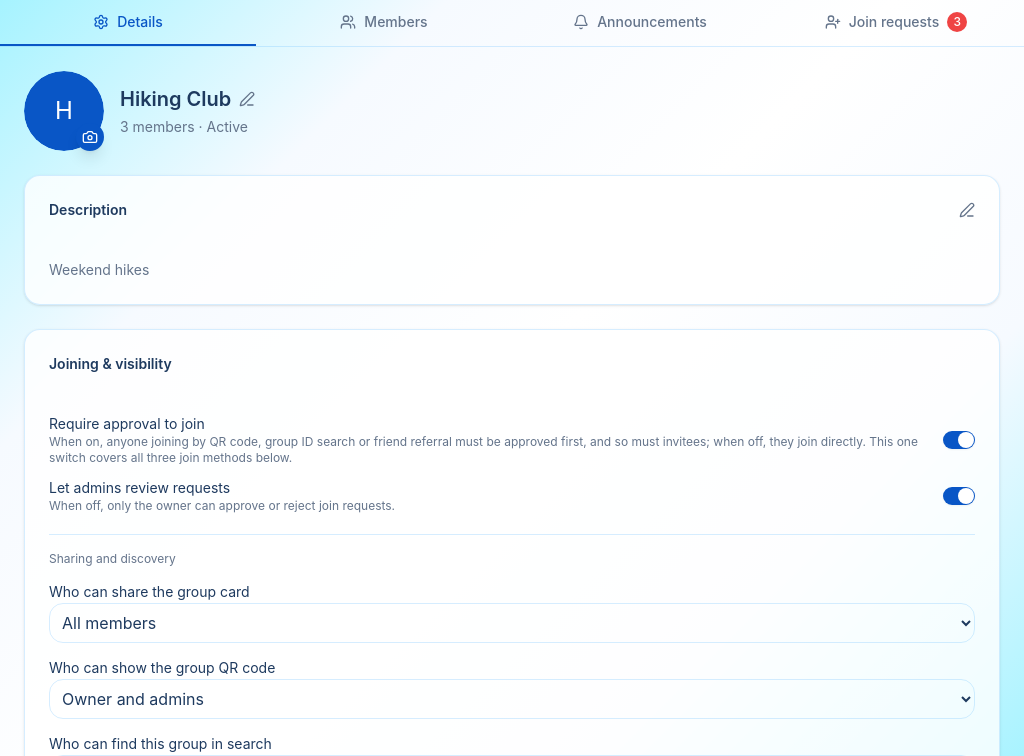
GroupManagement 禁言弹窗标题 › 成员没有昵称时标题落到用户 ID，而不是只剩「Mute 」（原来只读 user_nickname）
Check: the text "Joining & visibility" is shown, box [49, 355, 172, 372]
Click the button "Members".
click(384, 23)  # box [256, 0, 512, 46]
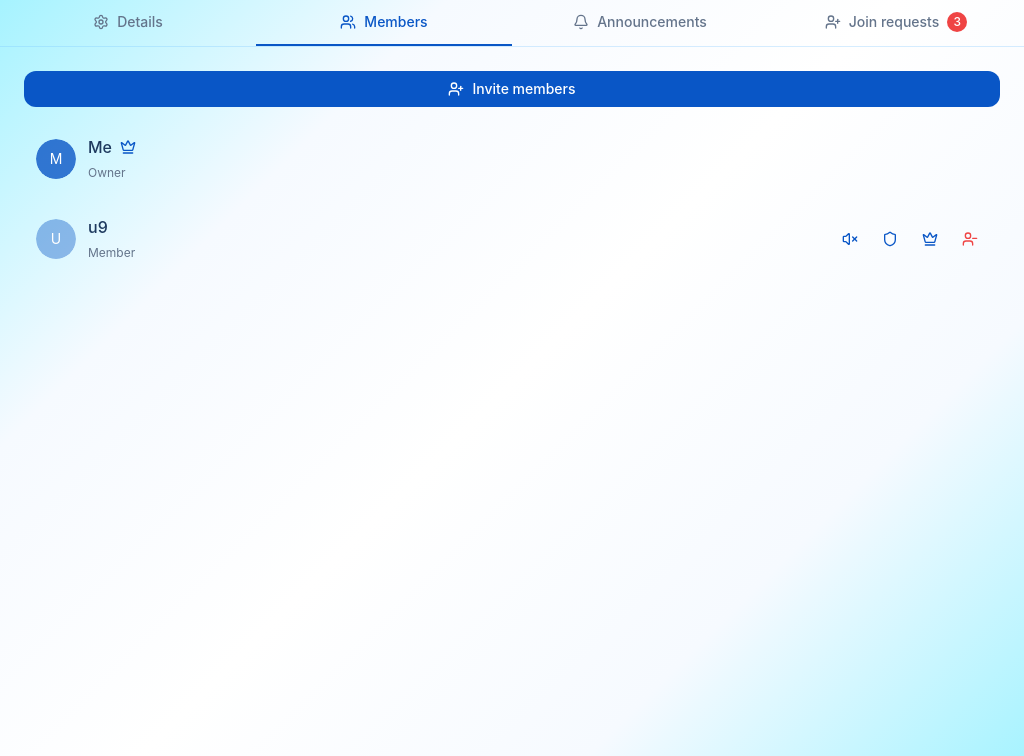
Check: the text "u9" is shown, box [88, 217, 108, 237]
Click the 6th button.
click(850, 239)  # box [832, 221, 868, 257]
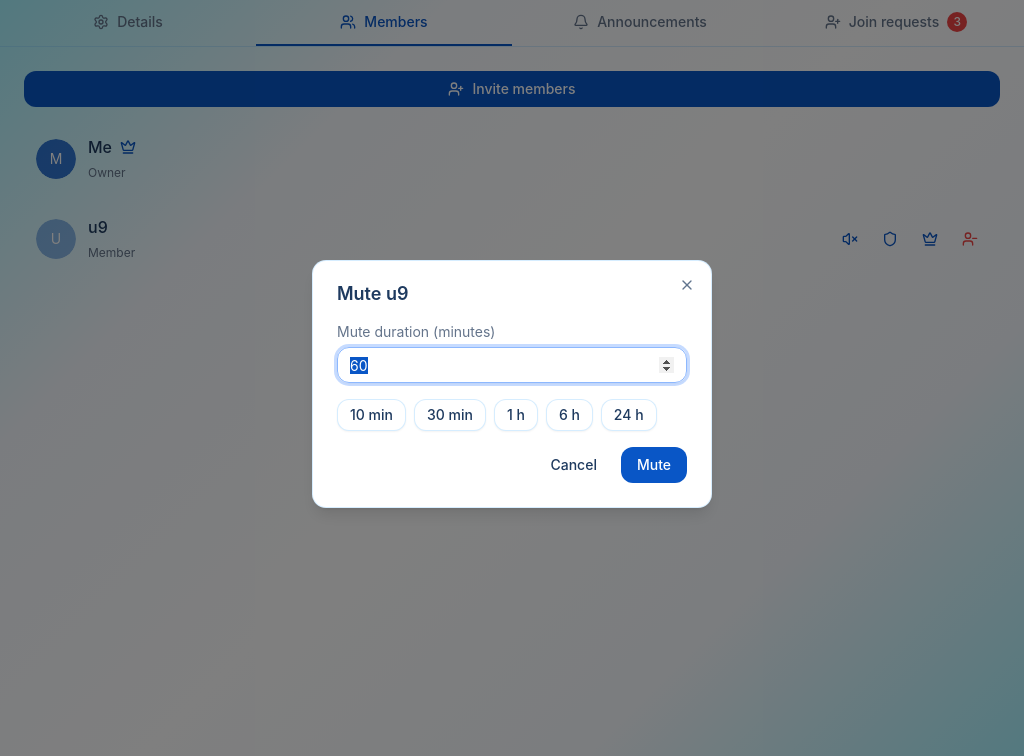
Check: the heading "Mute u9" is shown, box [337, 283, 408, 304]
